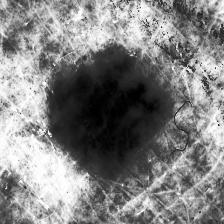Benign Marking or Mole: (43, 64, 168, 162)
